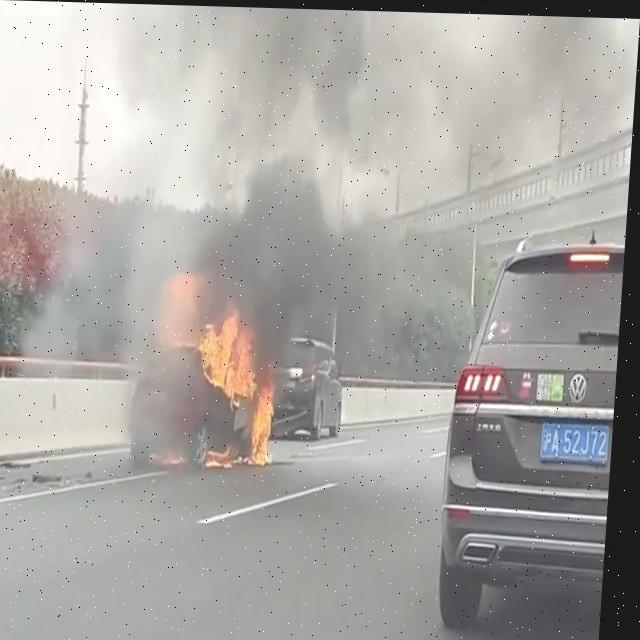normal: (416, 163, 609, 640)
single accident: (107, 286, 268, 484)
